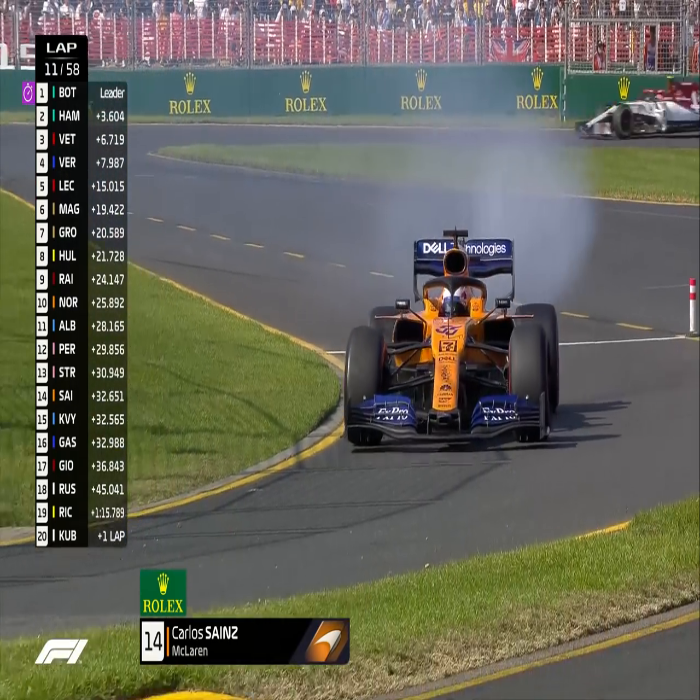f1_car: (335, 221, 589, 467)
